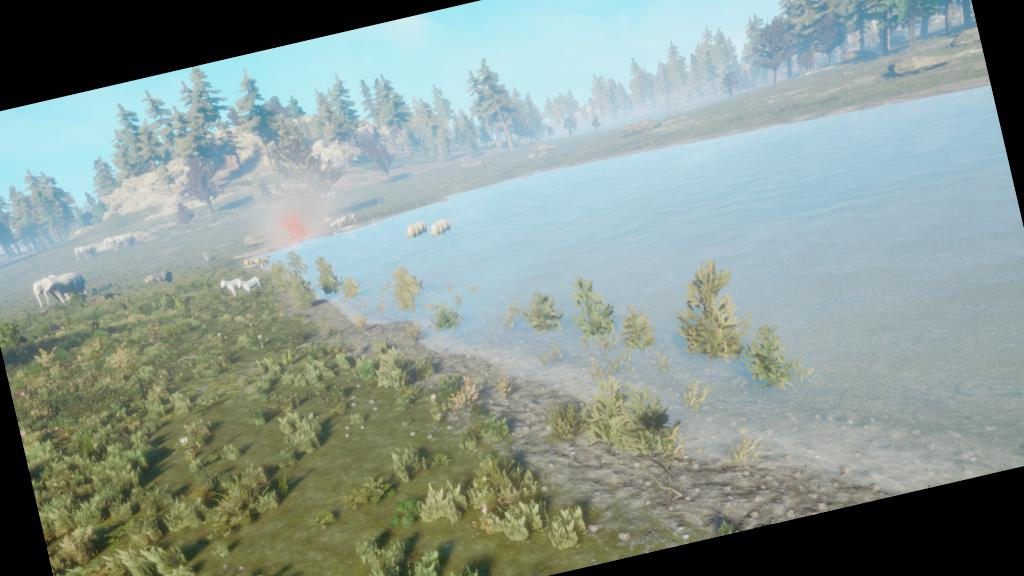Fire: (276, 204, 310, 245)
elephant: (26, 268, 88, 314), (70, 241, 100, 265), (115, 230, 141, 251), (100, 232, 126, 251)
hippopotamus: (140, 266, 174, 288)
human: (367, 214, 379, 232), (344, 224, 356, 238), (200, 250, 210, 264), (330, 226, 340, 240), (348, 210, 357, 223), (334, 216, 342, 228)
lion: (250, 254, 273, 270), (240, 255, 262, 270)
pig: (338, 214, 349, 224), (328, 219, 338, 230), (322, 217, 332, 224)
rhinoceros: (423, 212, 456, 243), (401, 218, 430, 242)
smoke: (254, 189, 322, 250)
zebra: (216, 273, 246, 298), (234, 272, 263, 296)
